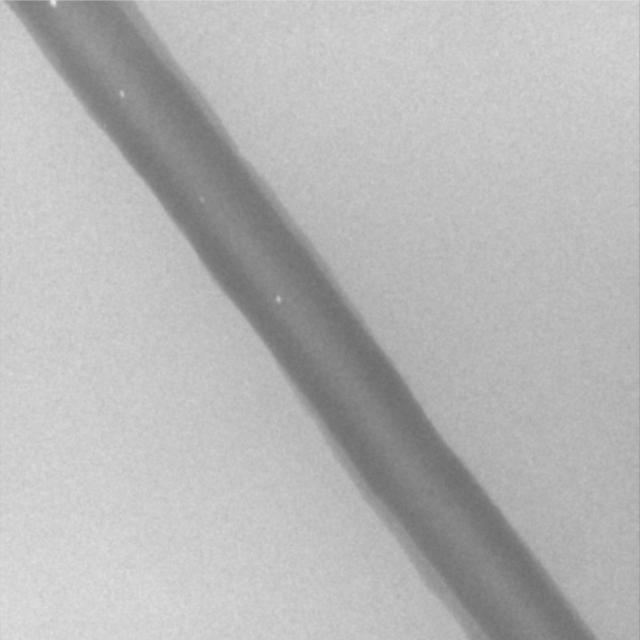air hole: (117, 87, 126, 100), (274, 294, 282, 306), (198, 194, 206, 205)
